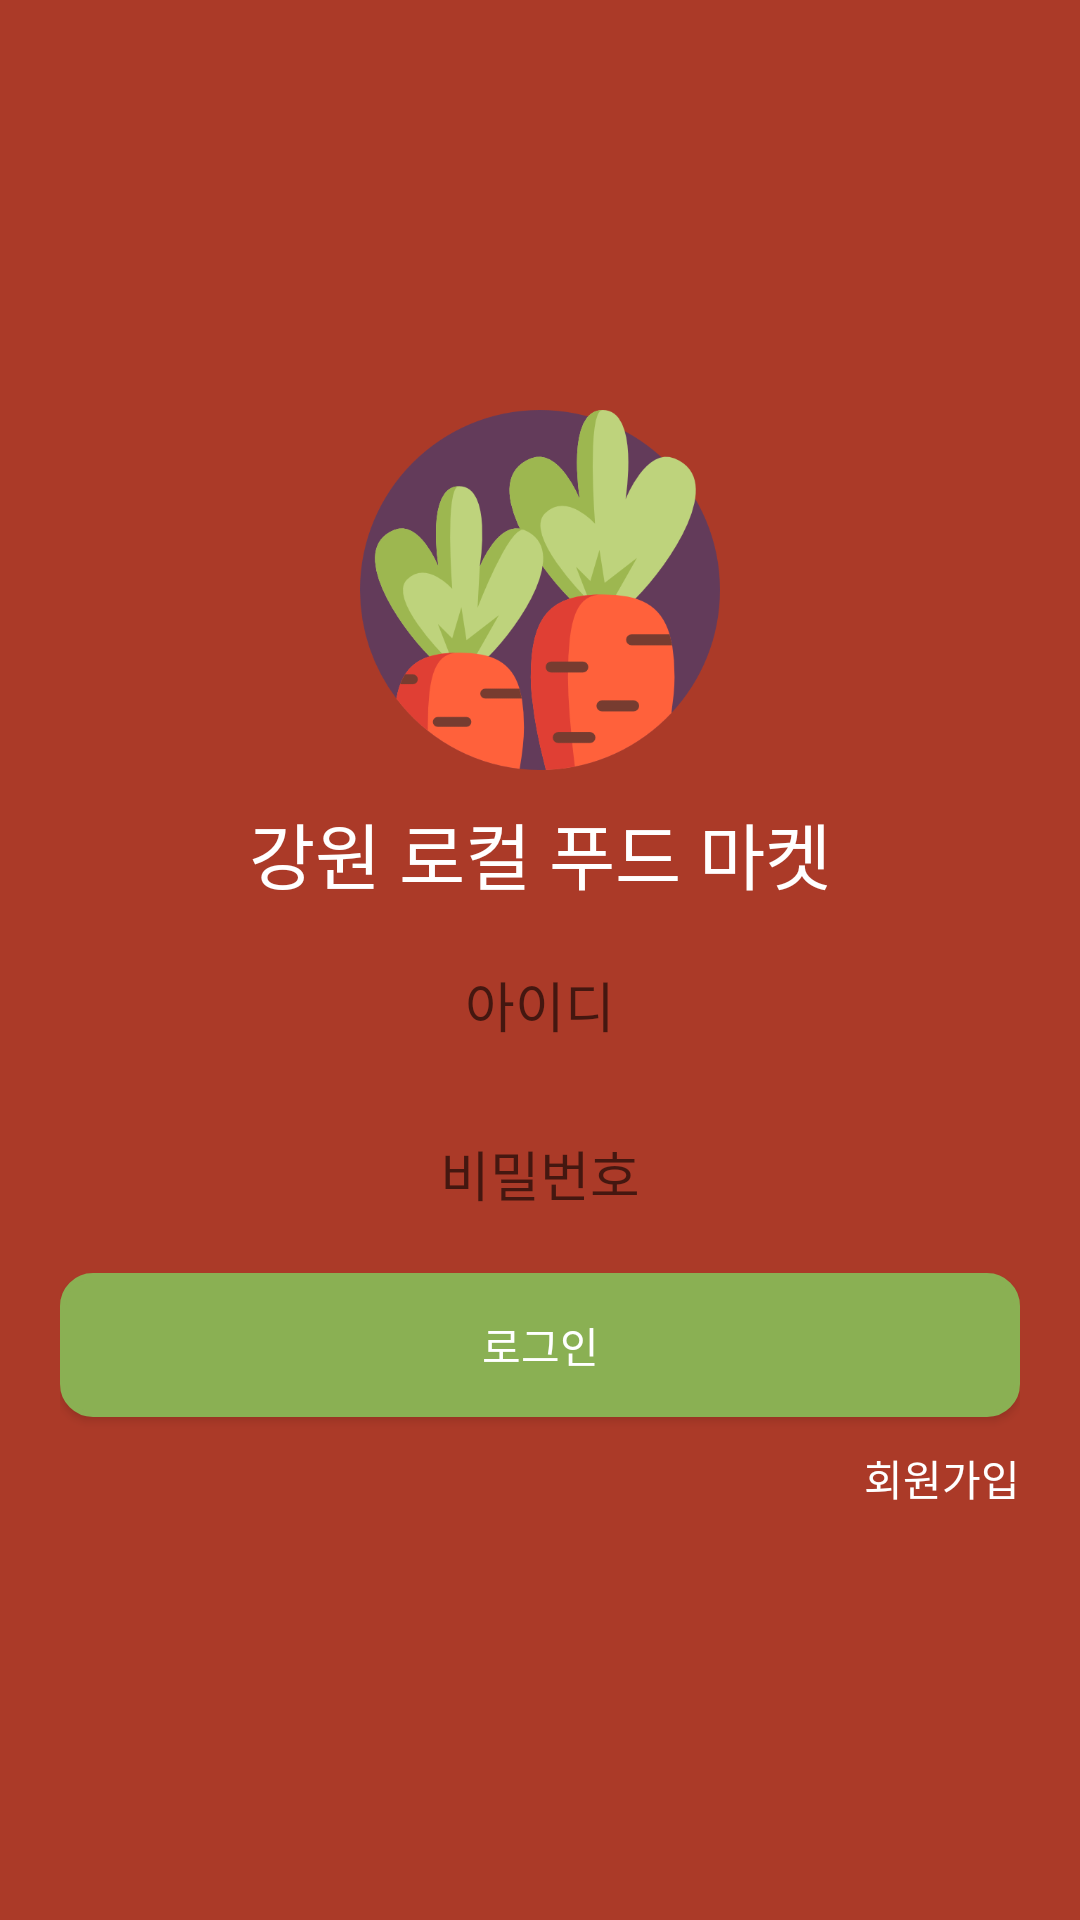

Icon bounding boxes for this 1080w x 1920h phone screenshot, format (x1, y1, x2, y2):
carrot main: (360, 410, 720, 770)
